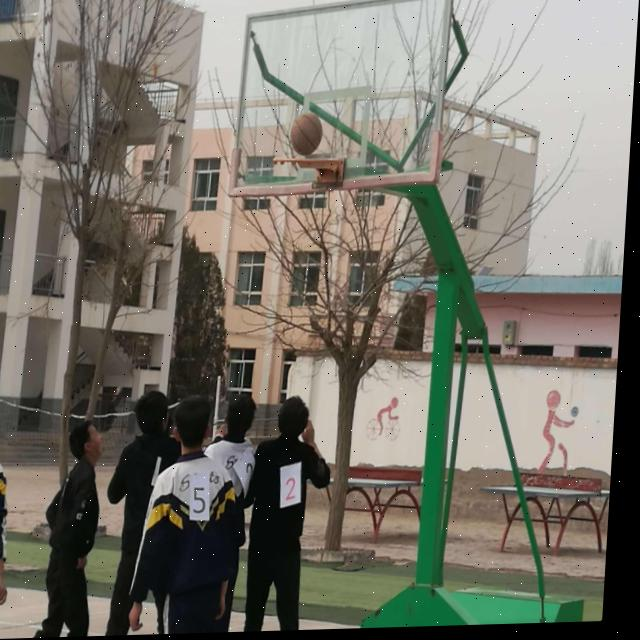basketball: (289, 112, 324, 156)
hoop: (271, 153, 339, 184)
